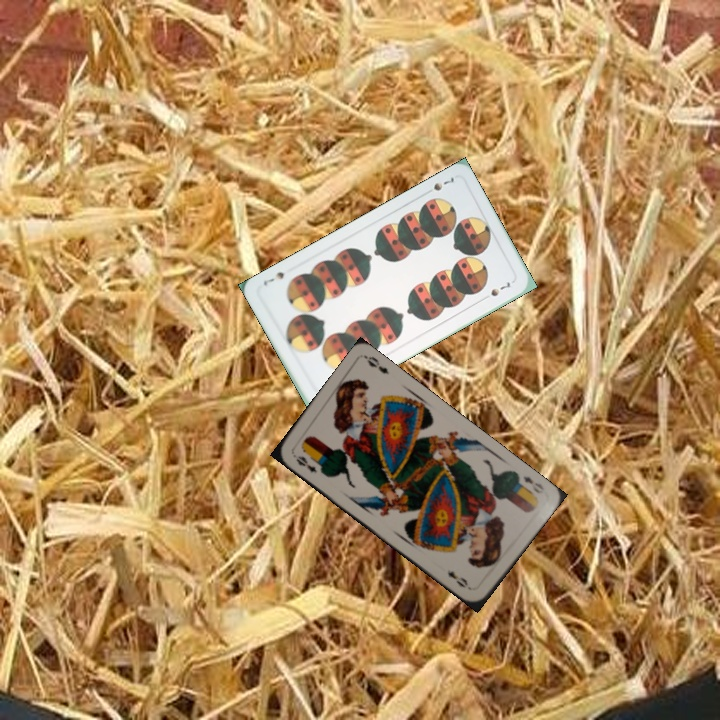EO: (519, 472, 547, 496), (292, 452, 320, 475)
S7: (420, 173, 457, 197)
